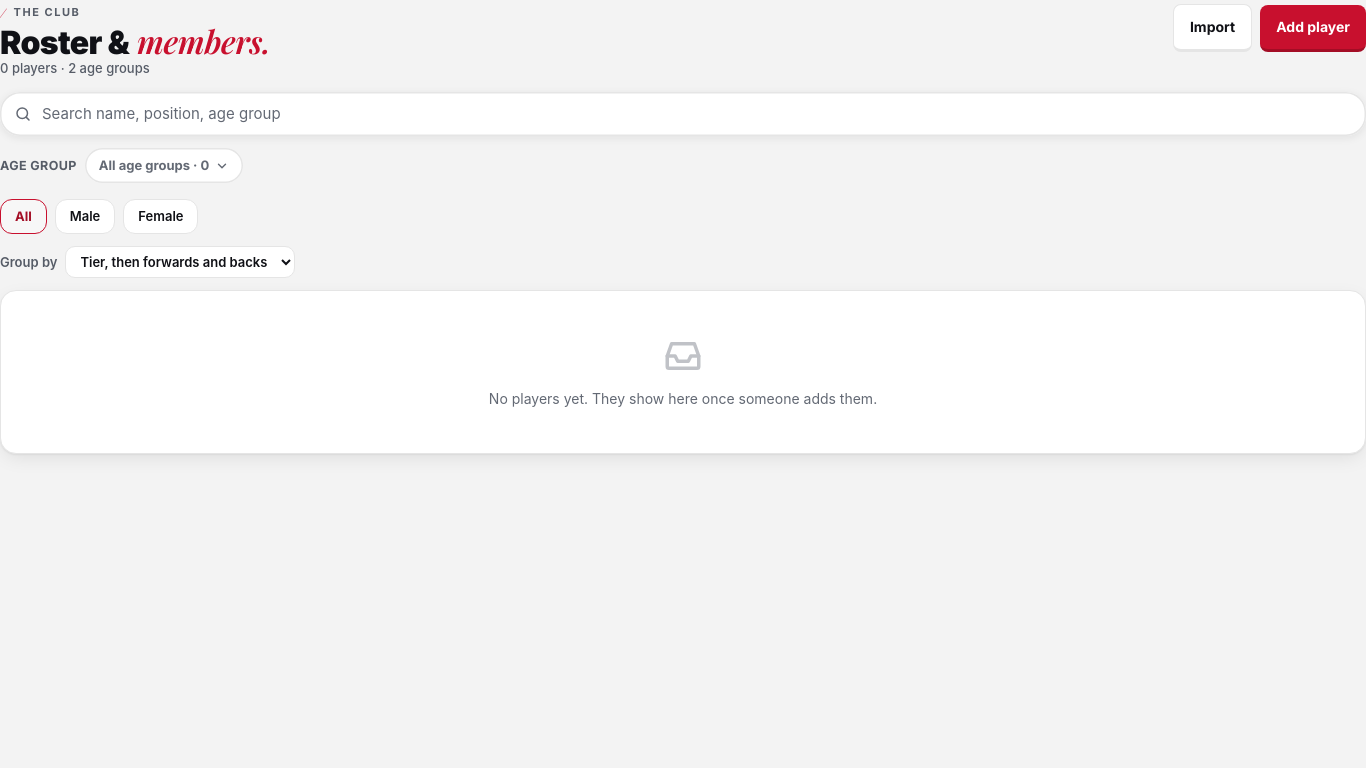
Test case: Import — preview › names an age group the user does not have
This screenshot has width=1366, height=768.
Click the button "Import": (1212, 28) [1173,4,1252,52]
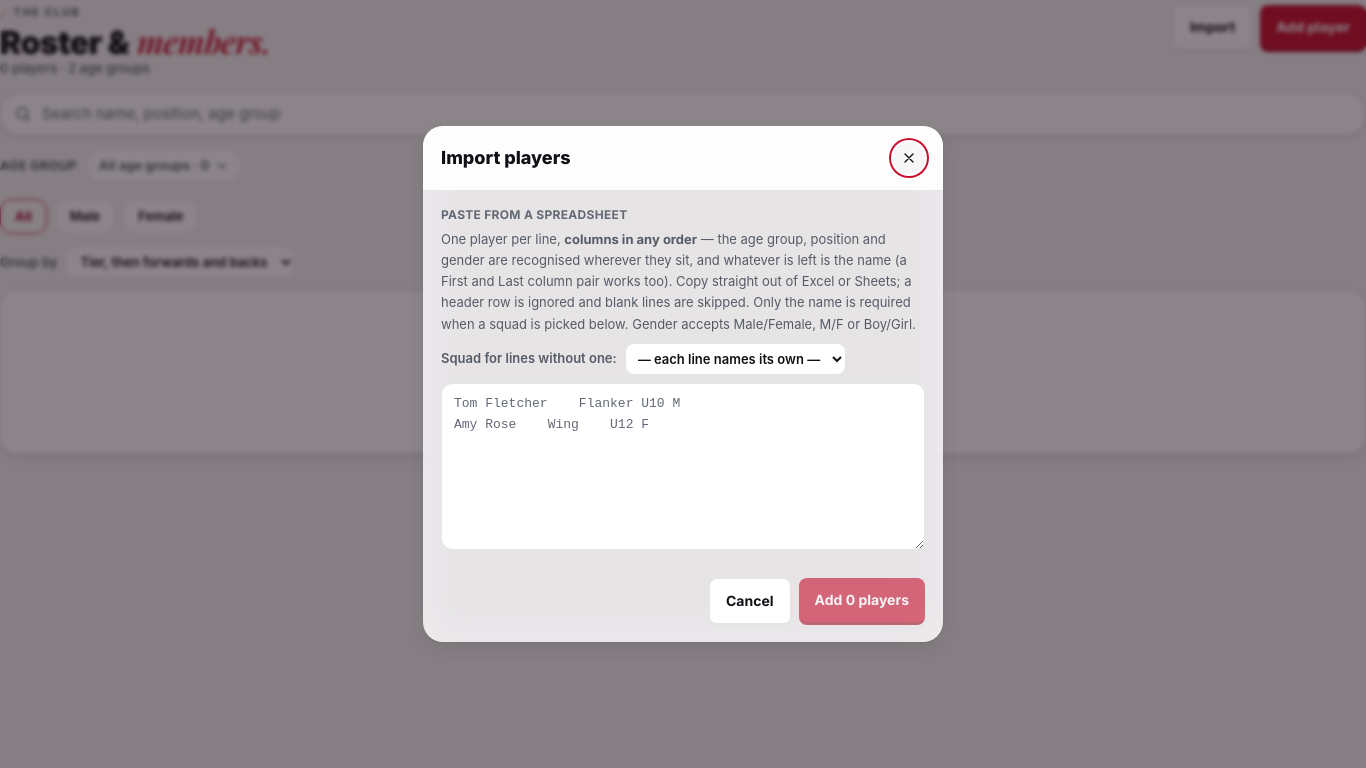
In the text box with test id "import-paste": (683, 466) [441,383,925,550], type "Tom Fletcher,Flanker,U14"
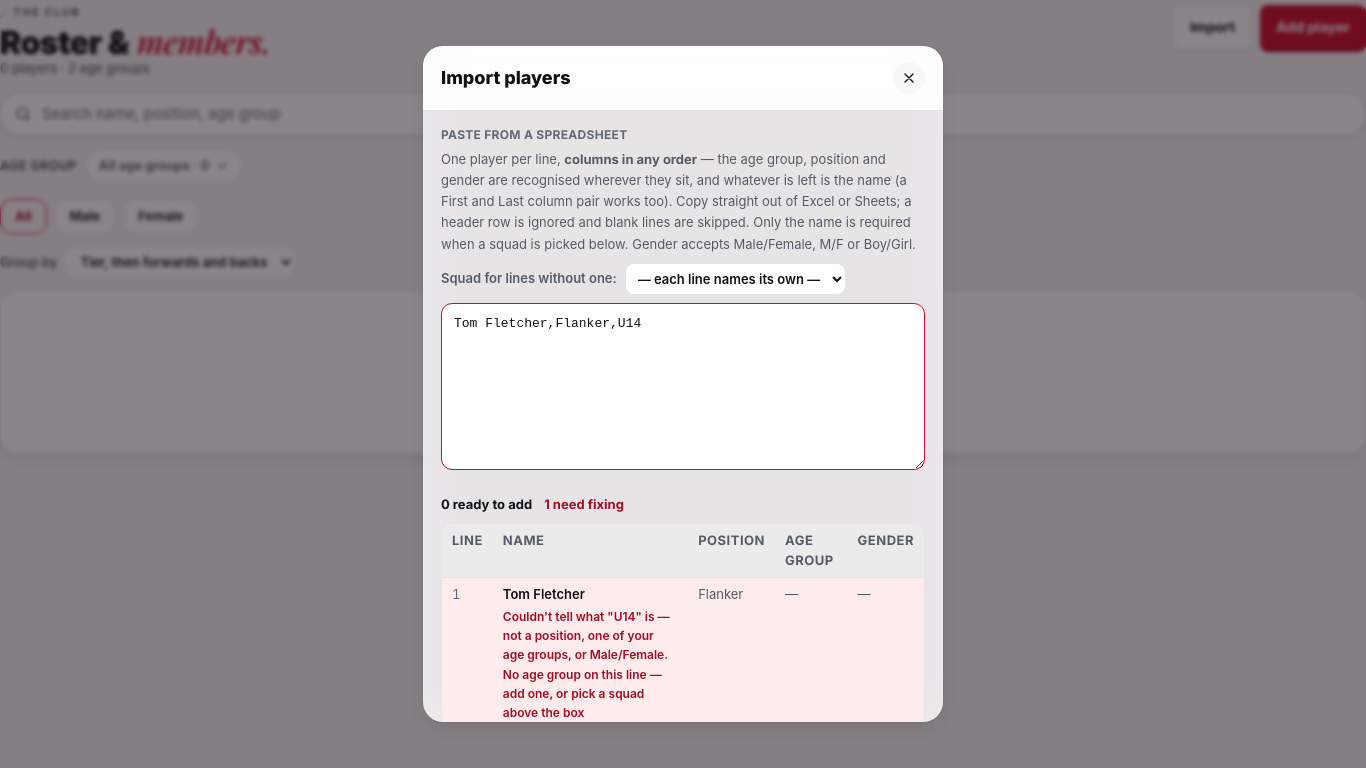
Result: the row with test id "import-row-bad" shows "U14" at [503,609,670,720]
